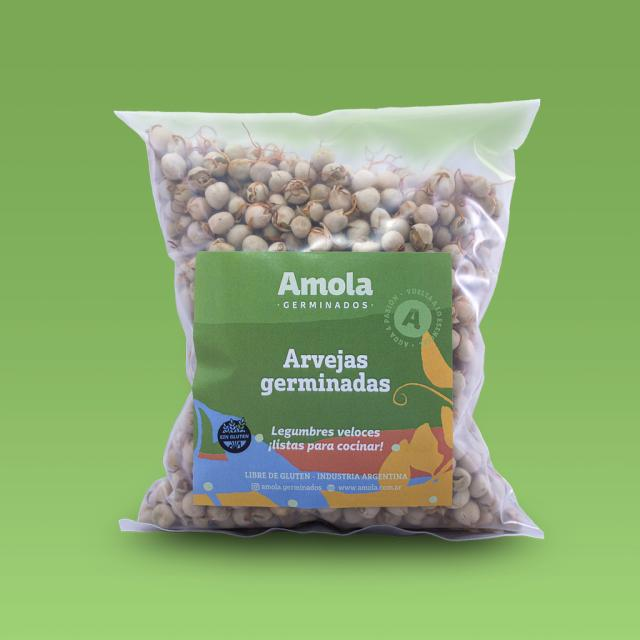garbanzos: (160, 129, 490, 246)
